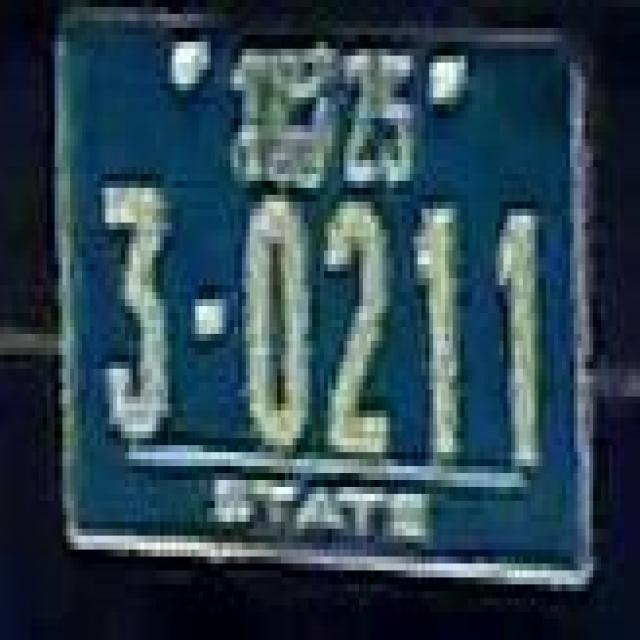State: (230, 49, 338, 192)
